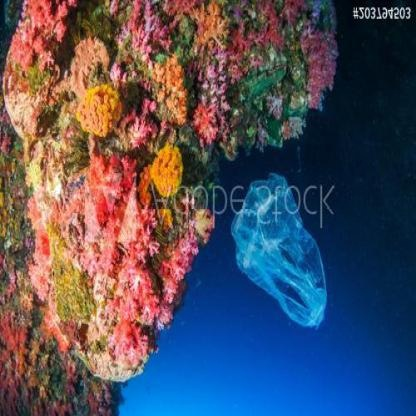pbag: (230, 172, 327, 327)
